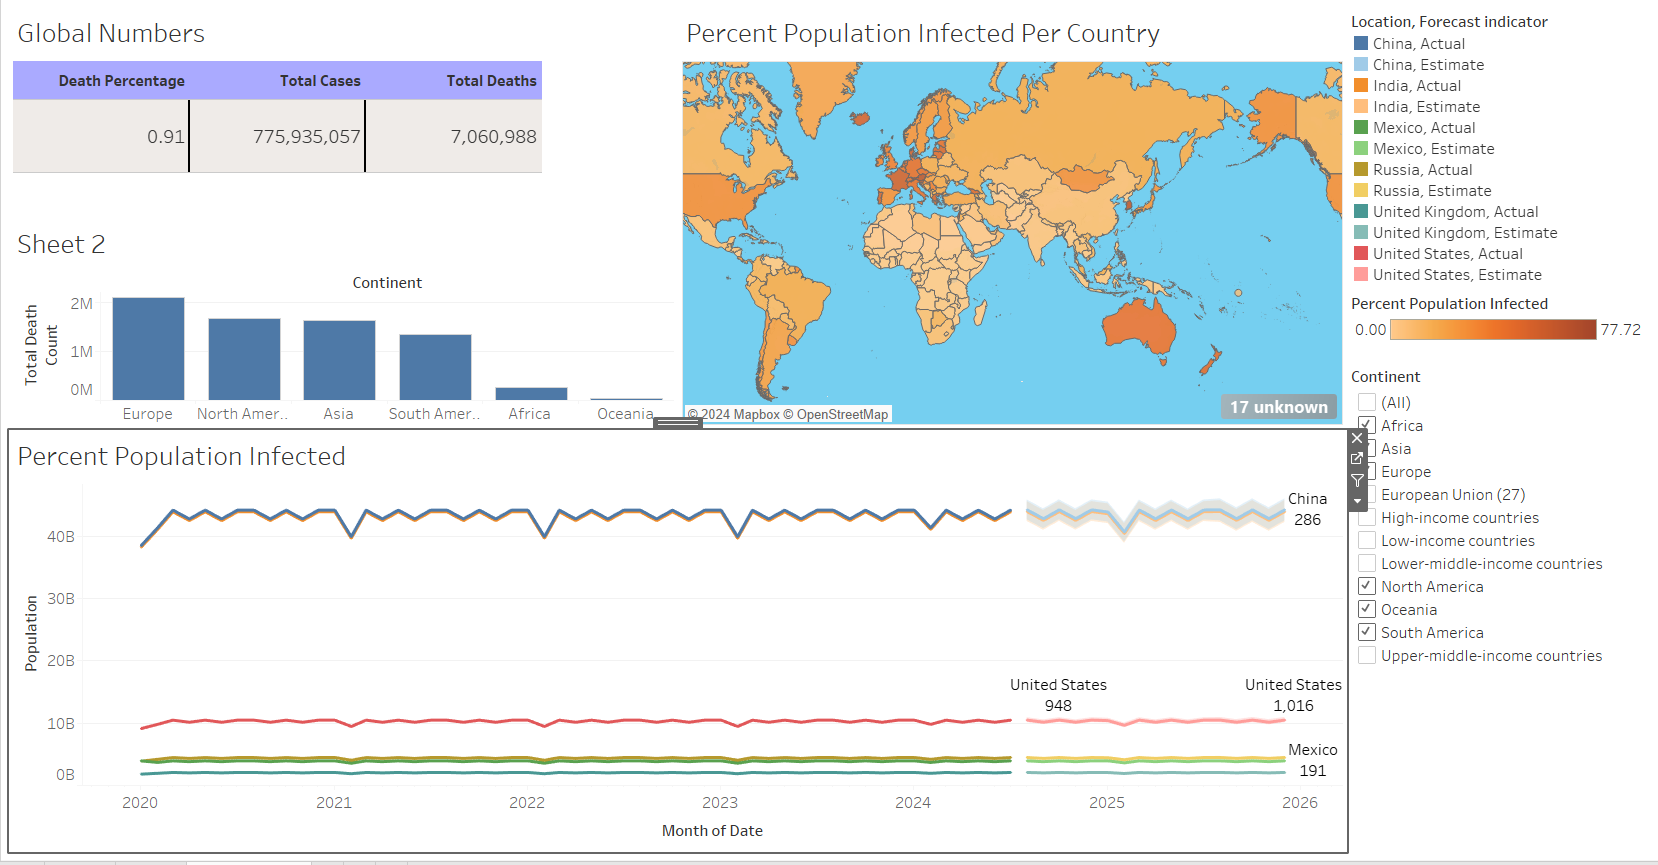

What the dashboard file says about the page in this screenshot:
{"tool":"tableau","page":{"name":"Dashboard 1","canvas":[1000,1000],"units":"permille","ordinal":0},"visuals":[{"type":"worksheet","title":"Sheet 1","mark":"Automatic","box":[4.8,9.3,403.7,245.4]},{"type":"worksheet","title":"Sheet 3","mark":"Automatic","box":[408.6,9.3,403.7,490.7]},{"type":"legend","title":"Sheet 4","param":"[federated.1lnr8rs0useovl1e5wer60wz9b5c].[none:Location:nk]\n[federated.1lnr8rs0u","box":[812.3,9.3,182.9,327.5]},{"type":"worksheet","title":"Sheet 2","mark":"Automatic","rows":["TotalDeathCount"],"cols":["location"],"box":[4.8,254.7,403.7,245.3]},{"type":"legend","title":"Sheet 3","param":"[federated.1xpqvjb065wpav1ebghdi0f6ut5c].[sum:PercentPopulationInfected:qk]","box":[812.3,336.8,182.9,84.8]},{"type":"filter","title":"Sheet 2","param":"[federated.1r7rnr20wlubep1bnqoxr1qvi55a].[none:location:nk]","box":[812.3,421.6,182.9,362.4]},{"type":"worksheet","title":"Sheet 4","mark":"Automatic","rows":["Population"],"cols":["date"],"box":[4.8,500,807.5,490.7]}]}

Visuals, with their boxes on the dashboard's canvas, which has no fixed pixel size, in thousandths of its width and height (x1, y1, x2, y2). These are canvas units, not pixel positions in the 1658x865 screenshot, which may show the page scaled, cropped or inside an application window:
"Sheet 1" worksheet: 5 9 408 255
"Sheet 3" worksheet: 409 9 812 500
"Sheet 4" legend: 812 9 995 337
"Sheet 2" worksheet: 5 255 408 500
"Sheet 3" legend: 812 337 995 422
"Sheet 2" filter: 812 422 995 784
"Sheet 4" worksheet: 5 500 812 991
